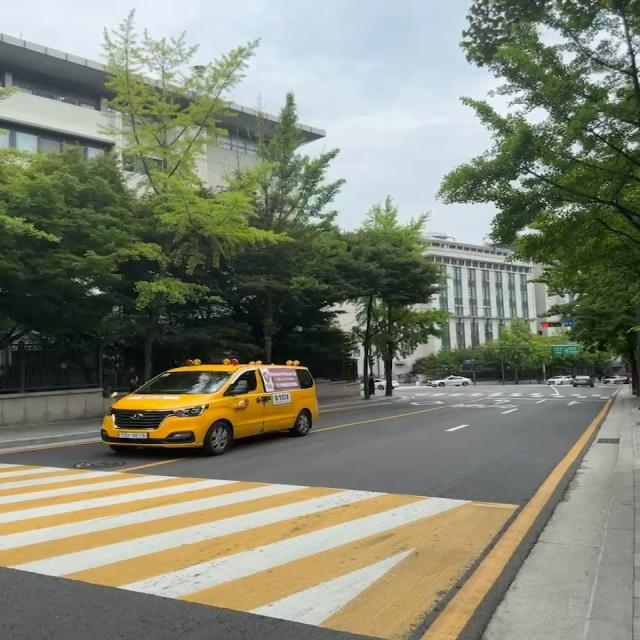building: (2, 32, 329, 201), (396, 228, 565, 351)
car: (100, 358, 319, 456), (427, 374, 473, 387)
